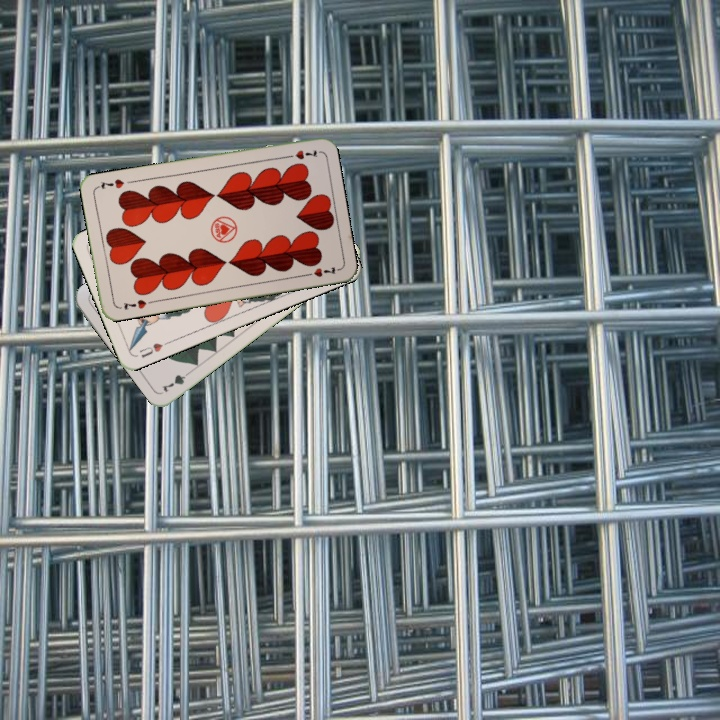G7: (157, 366, 195, 395)
H7: (281, 145, 320, 162), (120, 295, 155, 312)
HU: (135, 337, 171, 360)
